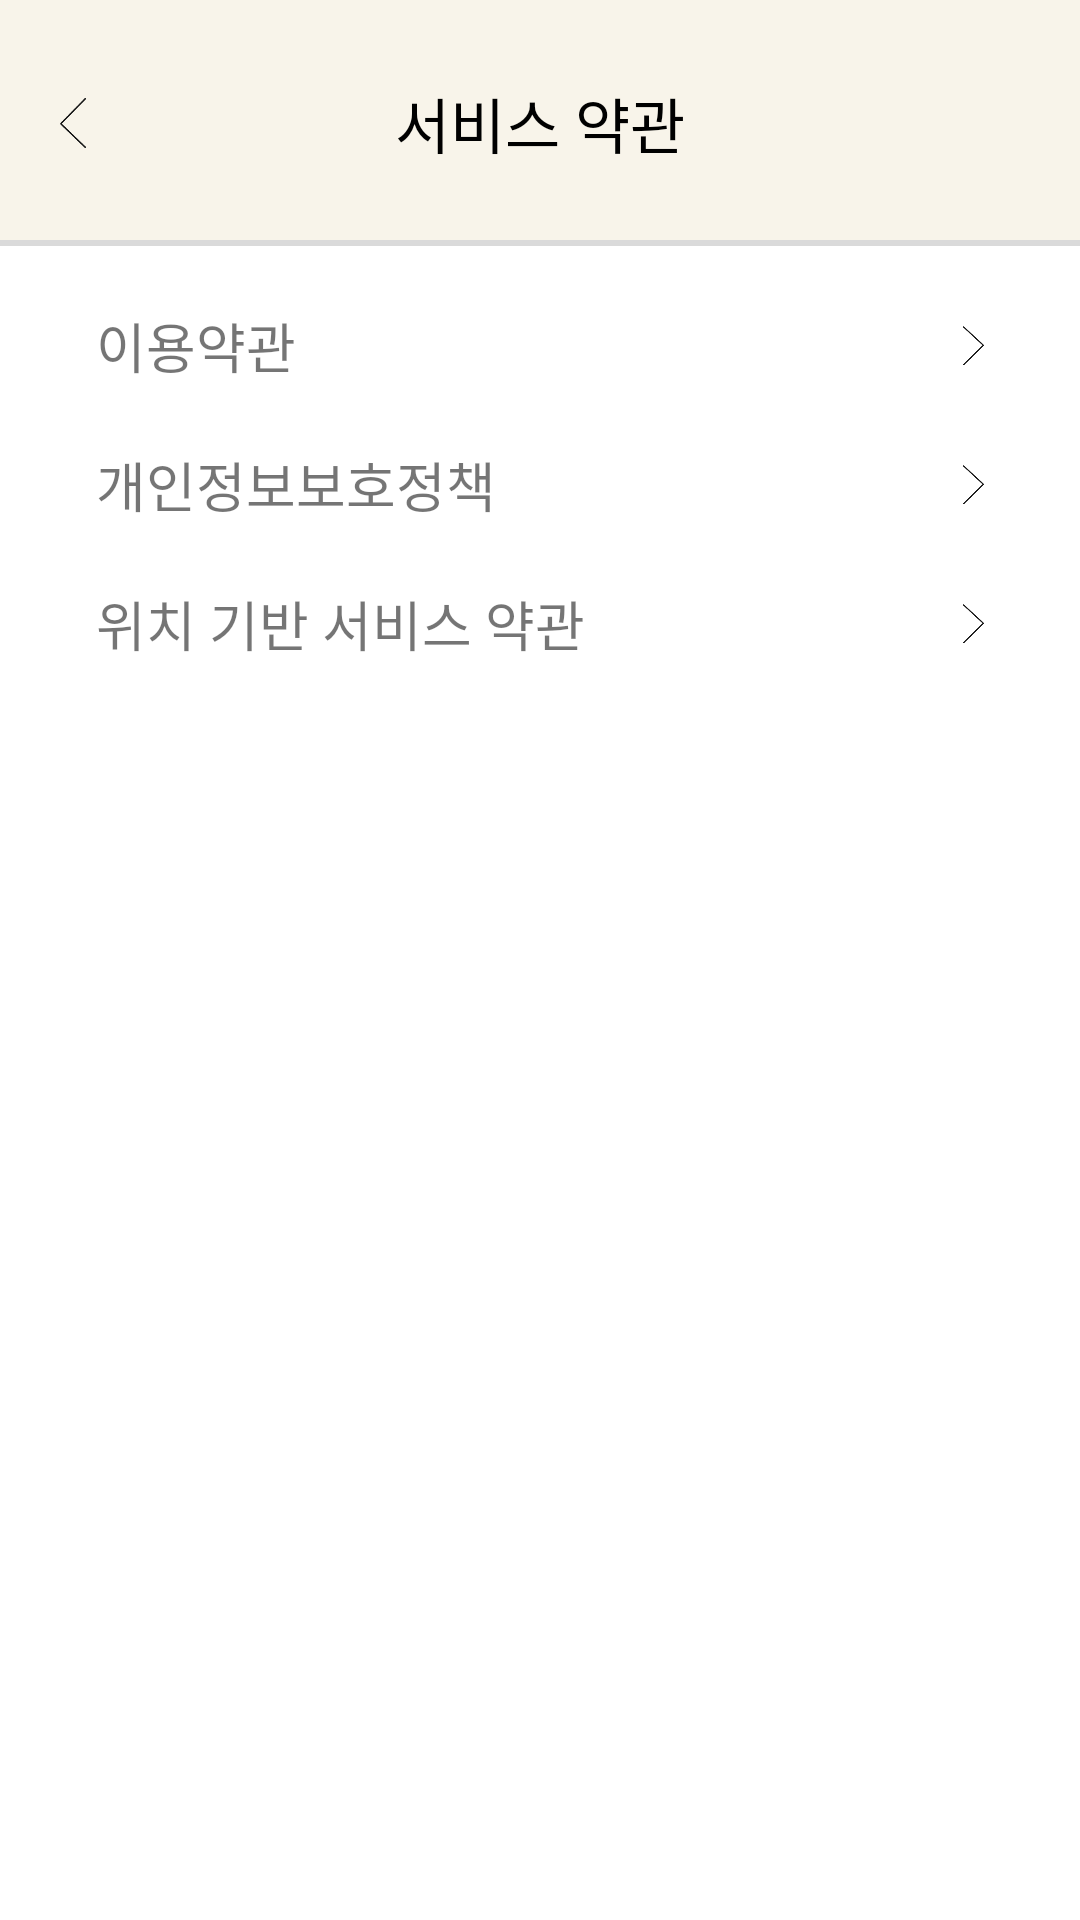

Where to tap for icons on this 1080×1920 app screen, as (x=x, y=y):
backbtn: (x=73, y=123)
